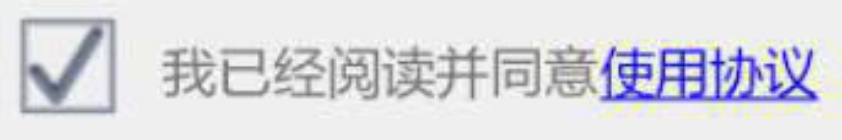CheckBox: (1, 1, 841, 139)
